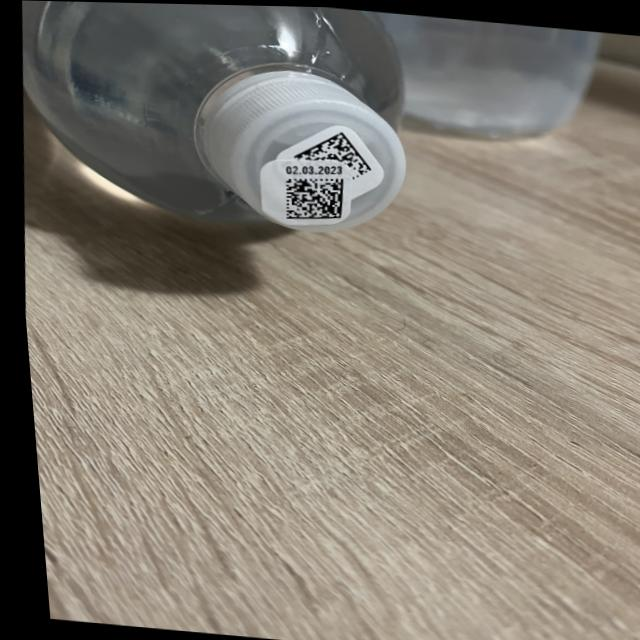datamatrix: (280, 172, 344, 223)
